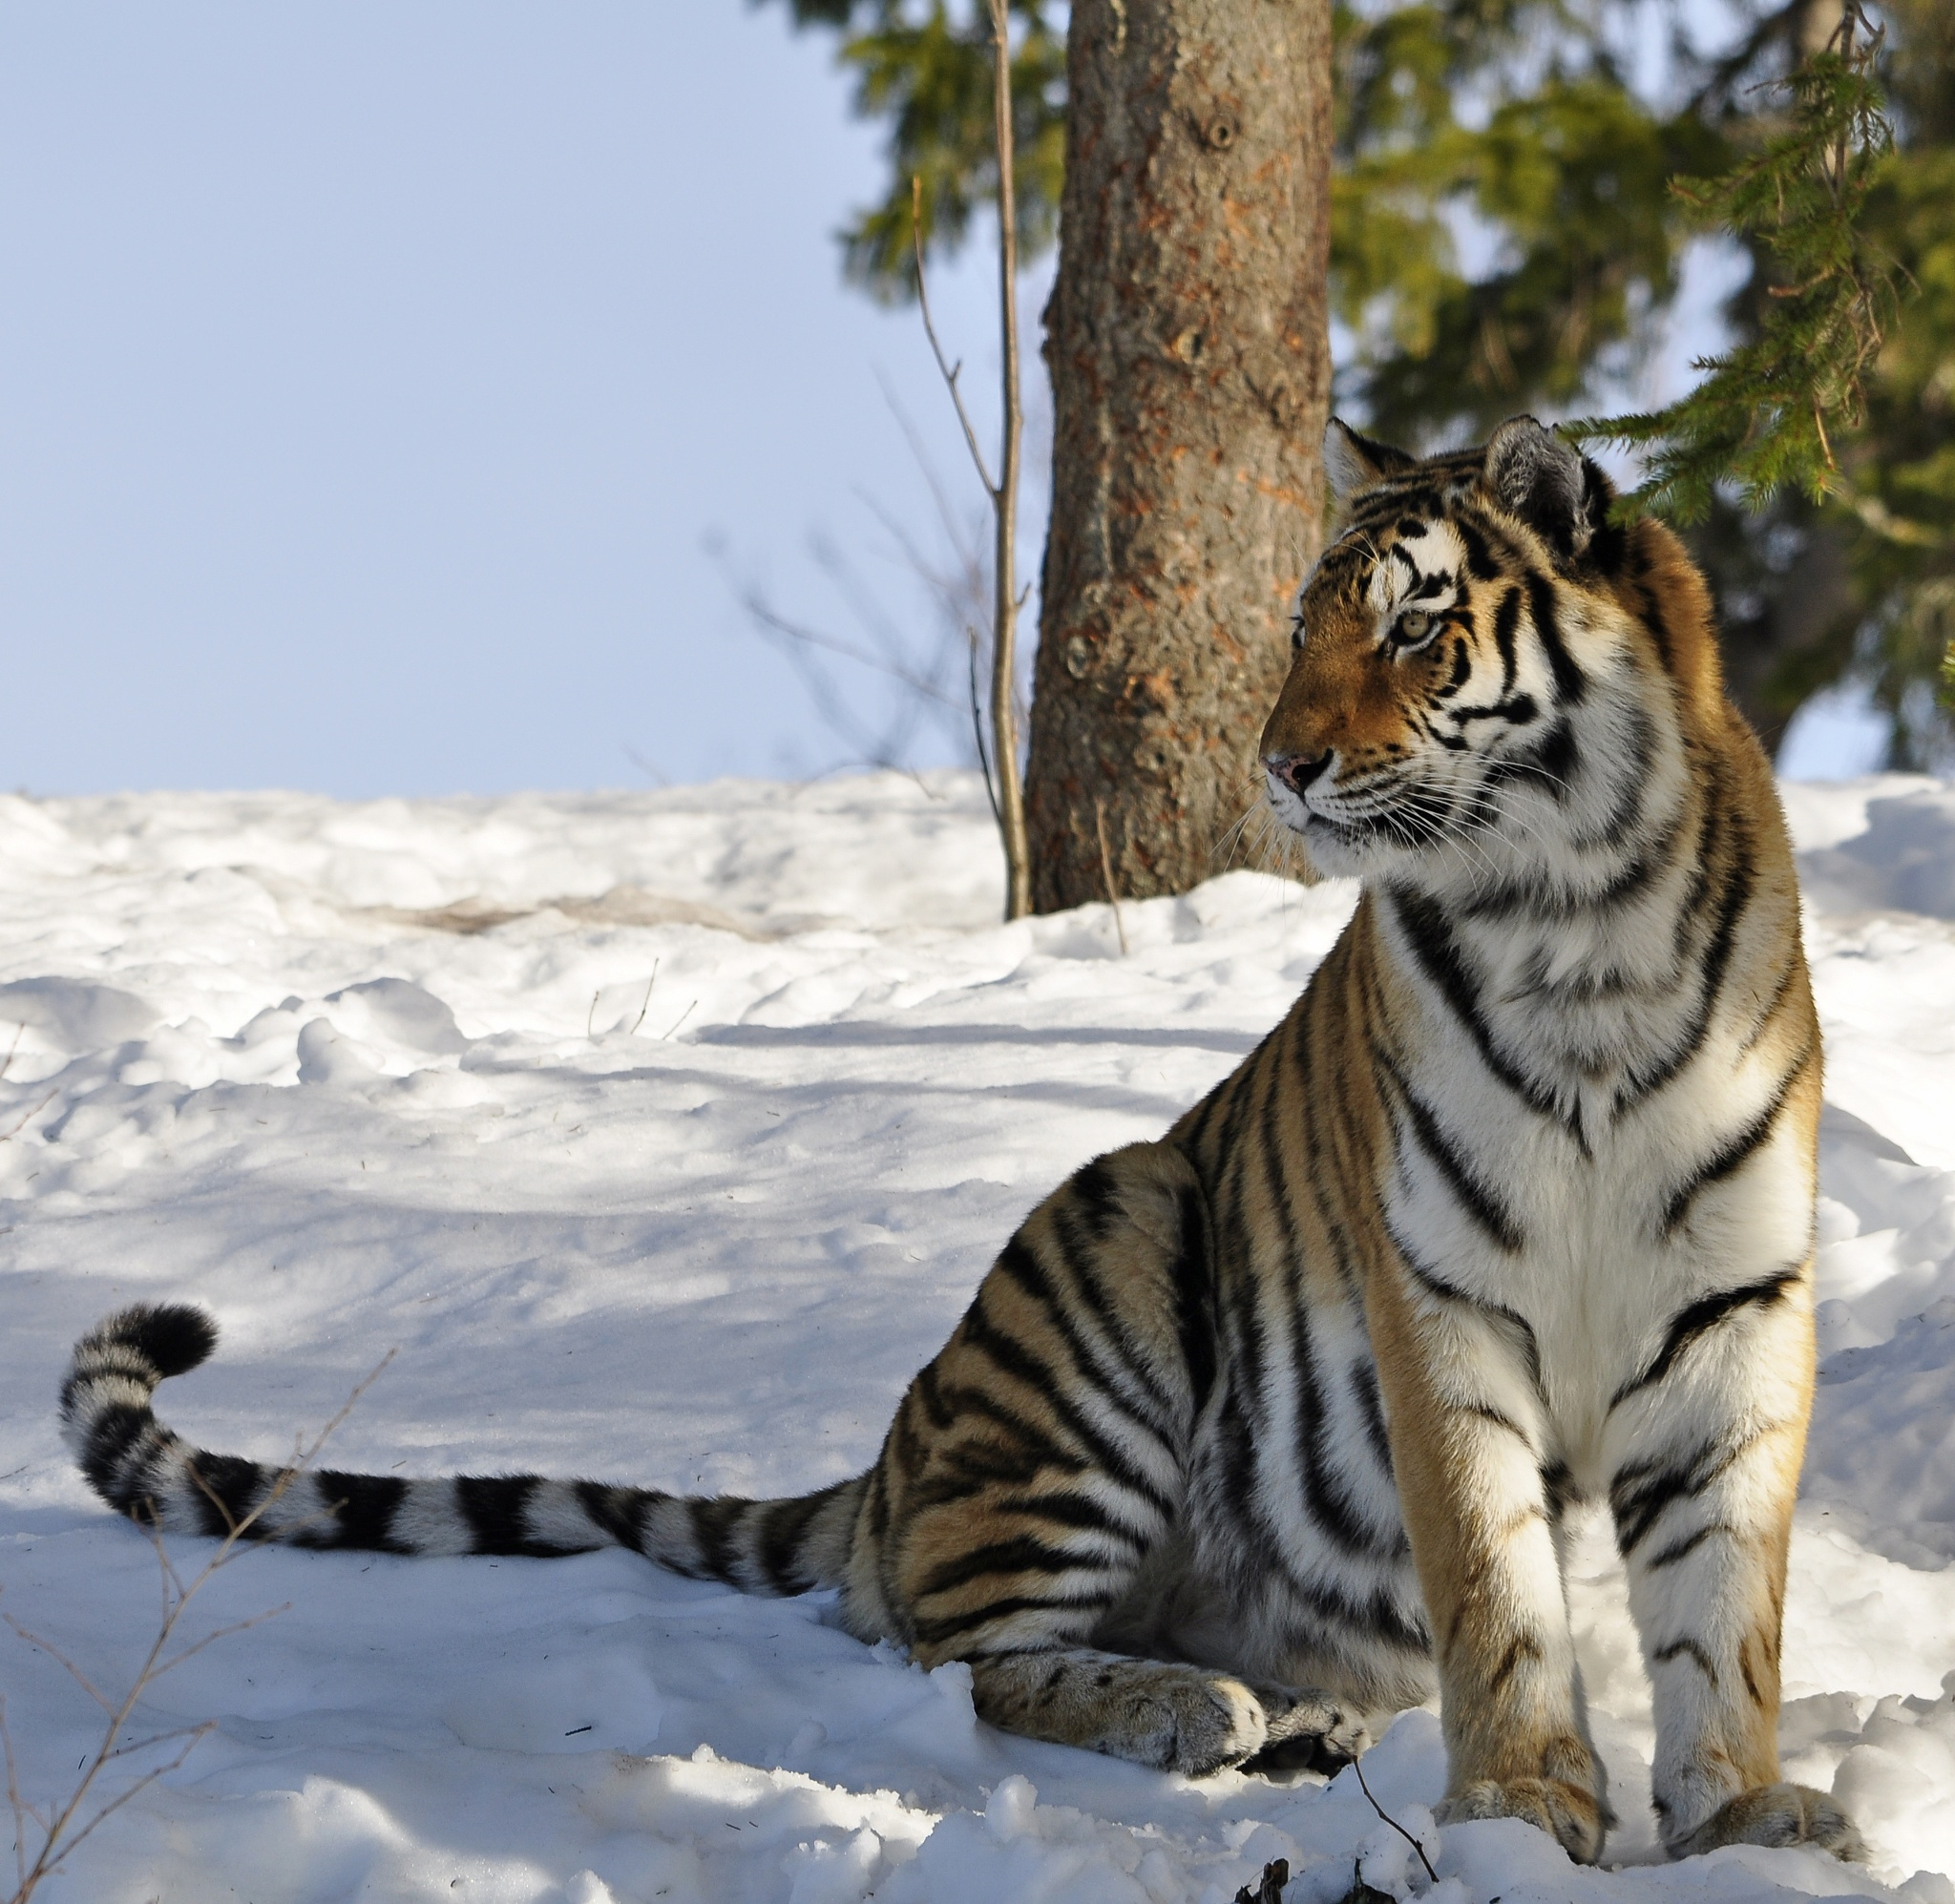tiger: (751, 426, 1824, 1805)
